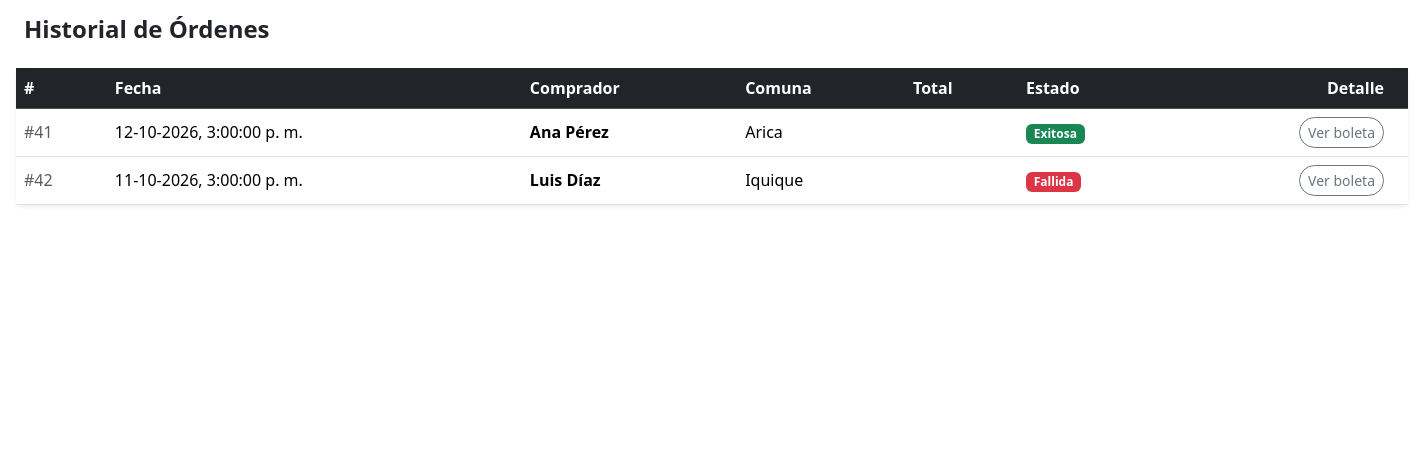
Test: AdminOrdenes › una orden sin items avisa y deshabilita la impresión
Expected: the text "Luis Díaz" is shown, [522,156,737,204]
Click the button "Ver boleta" in the row of "42" at coordinates (1342, 180), box [1299,165,1384,196]
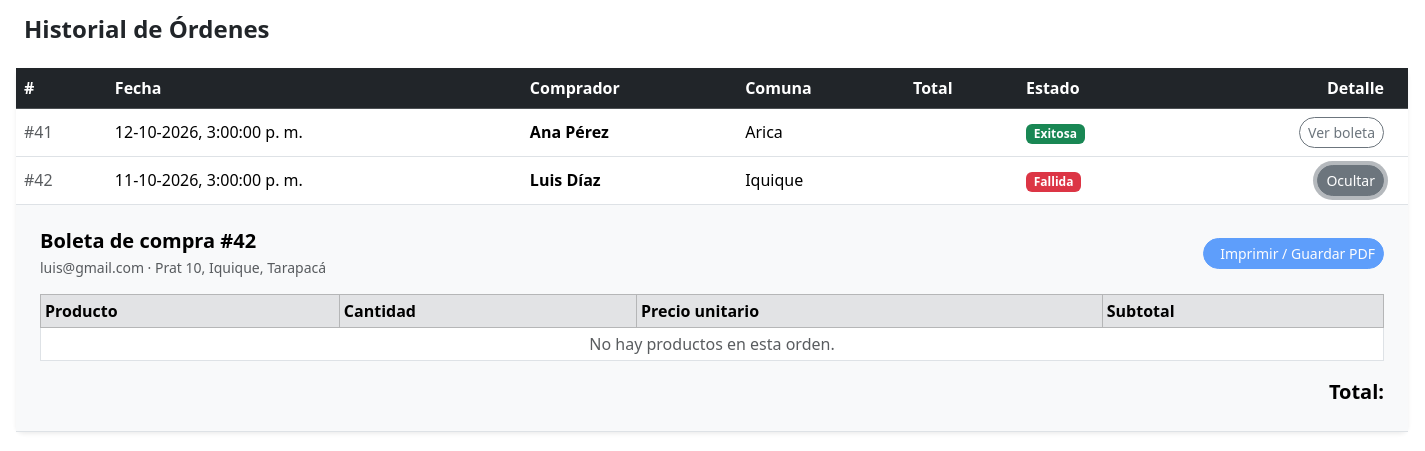
Now the text "No hay productos en esta orden." is shown, box [40,327,1384,360]
Now the button "Imprimir / Guardar PDF" is disabled, box [1203,238,1384,269]
